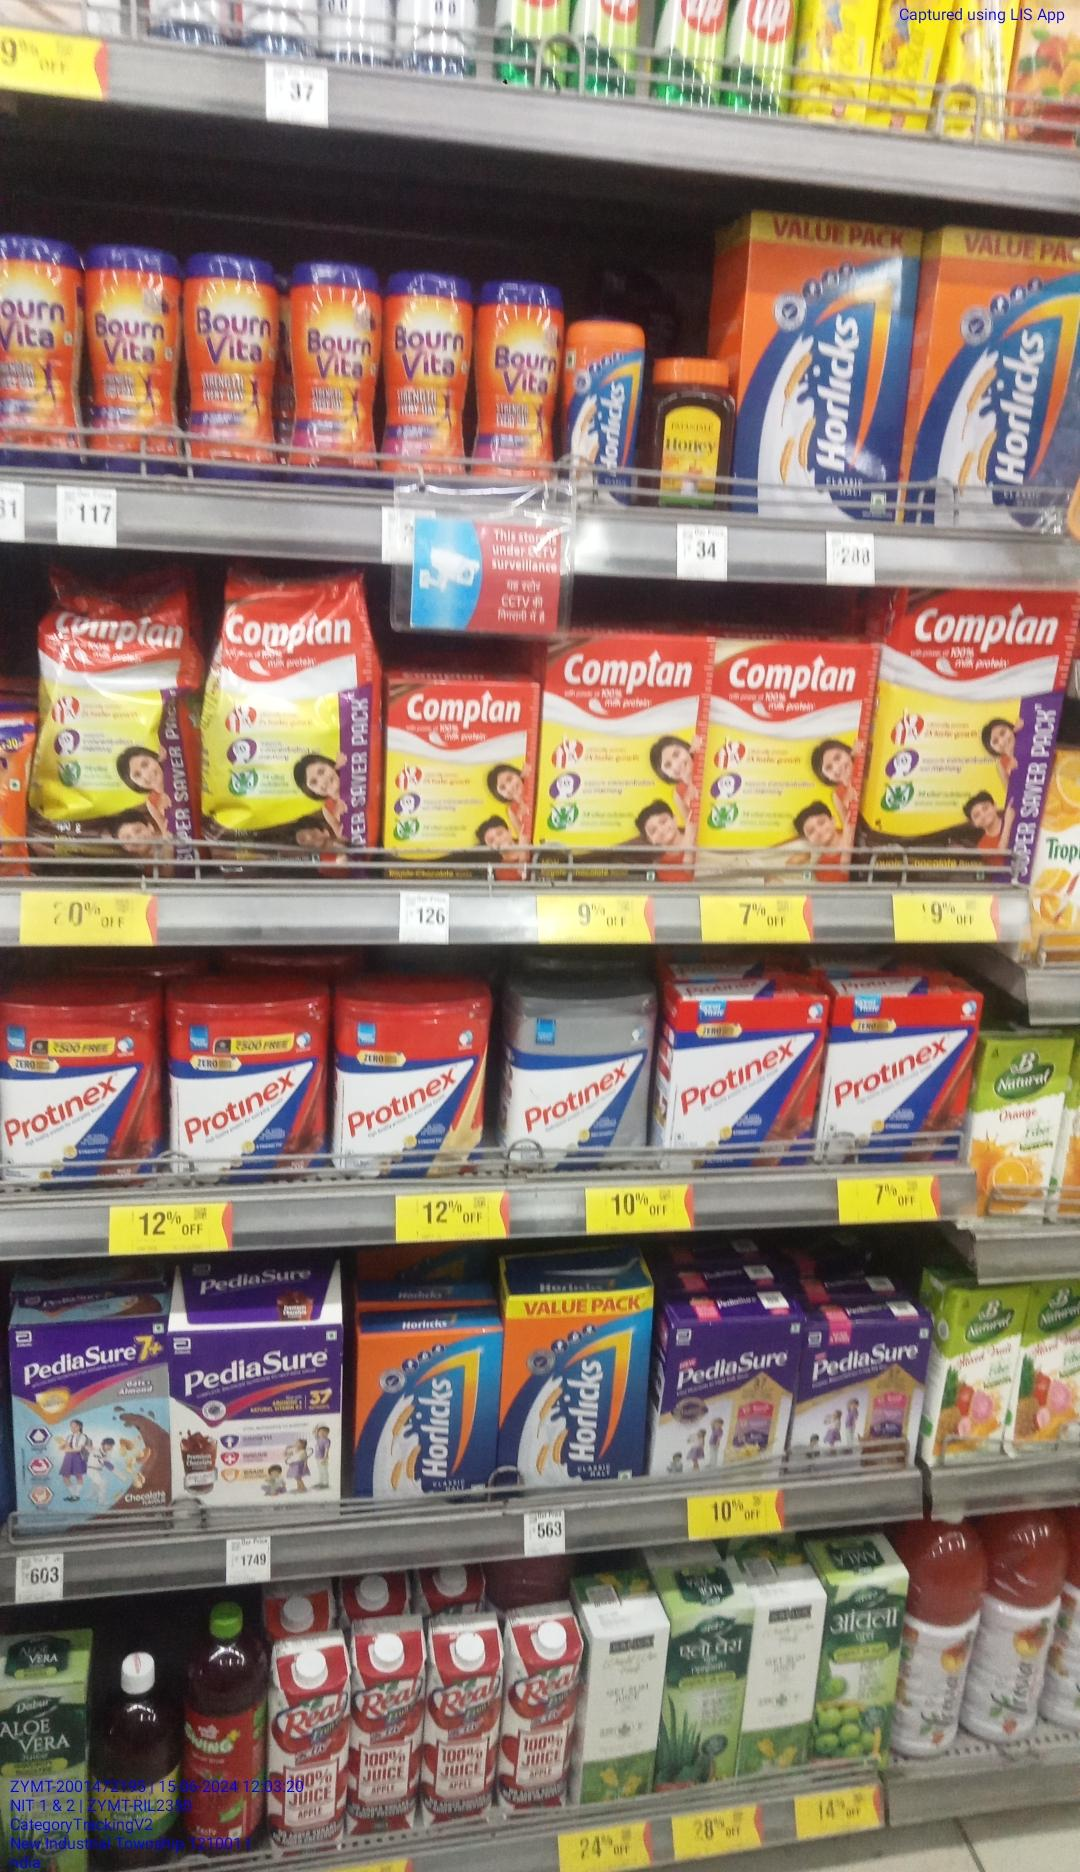BOURN_VITA_500_G_JAR: (86, 244, 190, 474), (289, 264, 382, 489), (386, 274, 472, 494), (3, 233, 81, 472), (201, 256, 280, 481), (480, 282, 553, 501)
COMPLAN_CHOCOLATE_1_KG_PACK: (879, 585, 1048, 885)
COMPLAN_CHOCOLATE_200_GMS_PACK: (388, 681, 527, 879)
COMPLAN_CHOCOLATE_500_GMS_PACK: (543, 636, 690, 879)
COMPLAN_KESAR_BADAM_500_GMS_PACK: (699, 642, 859, 888)
COMPLAN_RC_POUCH_700_GMS_12: (33, 576, 203, 881), (213, 562, 369, 876)
HORLICK_CLASSIC_MALT_200_G_JAR: (566, 319, 636, 499)
HORLICK_CLASSIC_MALT_500_G_PACK: (352, 1333, 498, 1504)
PEDIASURE_7_PLUS_CHOCOLATE_400_G_PACK: (13, 1327, 166, 1522)
PEDIASURE_CHOCOLATE_500_G_PACK: (801, 1323, 922, 1472)
PEDIASURE_VANILLA_500_G_PACK: (660, 1317, 788, 1480)
PROTINEX_CHOCOLATE_400_G_JAR: (0, 1000, 158, 1185), (168, 991, 320, 1175)
PROTINEX_ORIGINAL_400_G_JAR: (499, 991, 645, 1165)
PROTINEX_VANILLA_400_G_JAR: (336, 998, 489, 1184)
